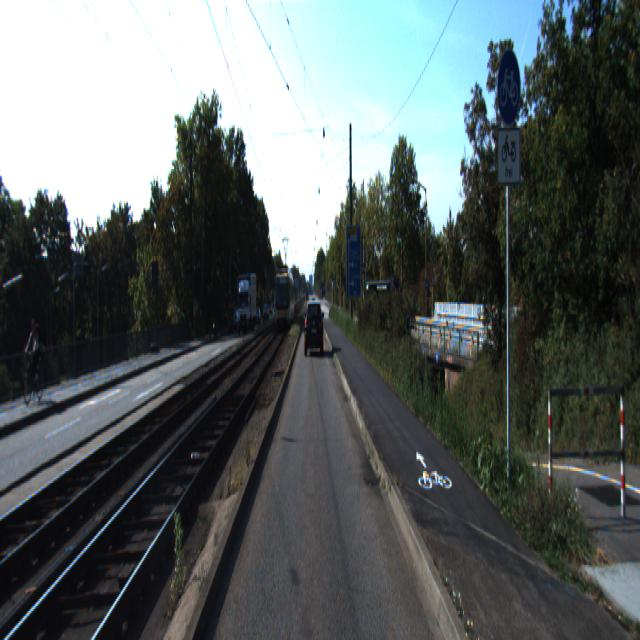Car: (365, 279, 403, 334), (236, 272, 257, 334), (305, 299, 323, 355)
